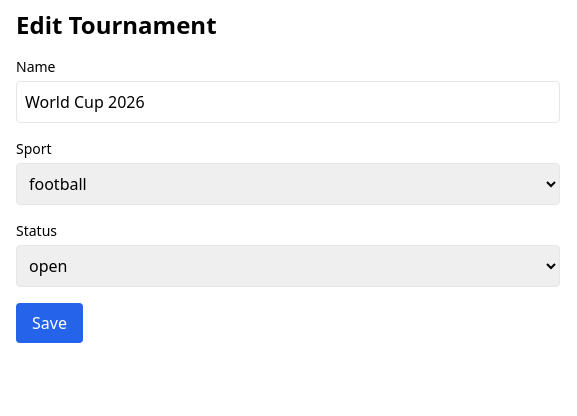
Test: EditTournamentPage › submits edited data successfully
Replace the text in the field labelled "Name" with "World Cup 2026 Updated" at (288, 102), box [16, 81, 560, 123]
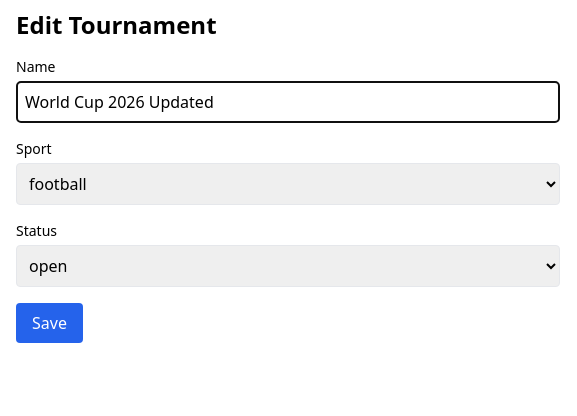
Click the button "Save" at (49, 323), box [16, 303, 83, 343]
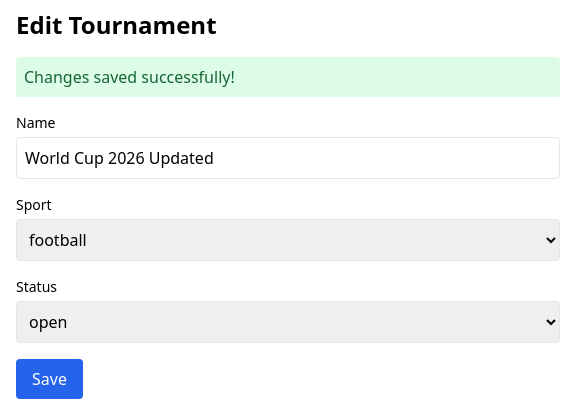
Check: the text "Changes saved successfully!" is shown, box [16, 57, 560, 97]
